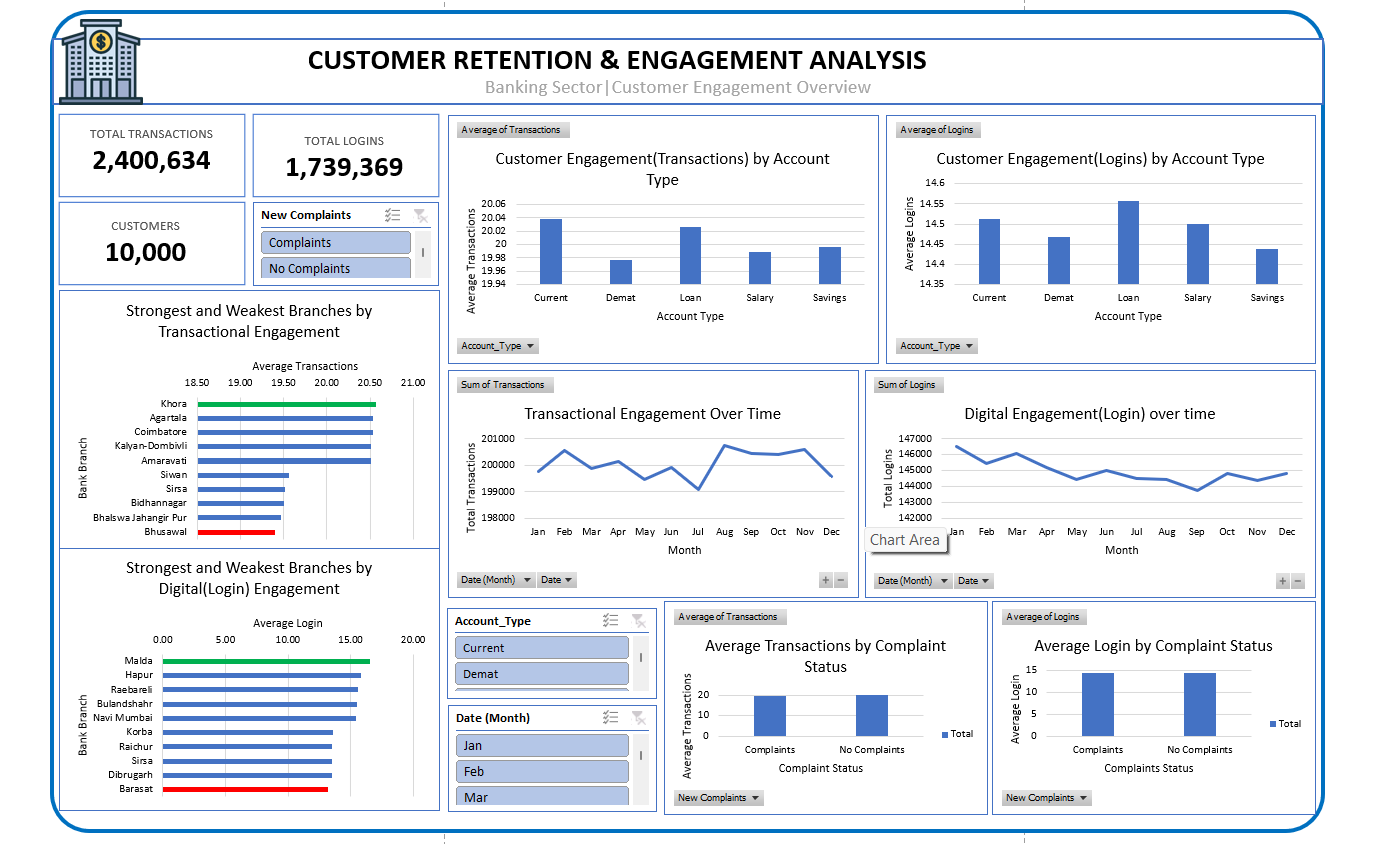

The dashboard page shown, as its layout file describes it:
{"tool":"powerbi","page":{"name":"Page 1","canvas":[1920,1080],"ordinal":0},"visuals":[{"type":"shape","box":[0,0,1920,144],"z":0},{"type":"shape","box":[1657.9,168,240,144],"z":1000},{"type":"textbox","box":[314.4,24,1176,96],"z":2000,"group":"g3"},{"type":"textbox","box":[1705.9,192,192,144],"z":2000},{"type":"textbox","box":[530.4,96,600,48],"z":3000,"group":"g3"},{"type":"group","id":"g1","title":"Group 1","box":[1320,168,312,144],"z":3000},{"type":"group","id":"g2","title":"Group 2","box":[1008,168,288,144],"z":4000},{"type":"shape","box":[1320,168,312,144],"z":5000,"group":"g1"},{"type":"image","box":[1632,216,120,72],"z":5000},{"type":"shape","box":[1008,168,288,144],"z":6000,"group":"g2"},{"type":"image","box":[1320,216,96,72],"z":6000},{"type":"image","box":[1032,216,72,96],"z":7000},{"type":"image","box":[48,0,192,144],"z":8000},{"type":"image","box":[1560,24,168,96],"z":9000},{"type":"textbox","box":[1368,192,264,120],"z":9000,"group":"g1"},{"type":"group","id":"g3","title":"Group 3","box":[314.4,24,1176,120],"z":10000},{"type":"textbox","box":[1056,192,240,96],"z":10000,"group":"g2"},{"type":"textbox","box":[1704,48,216,72],"z":11000},{"type":"lineChart","title":"Transactional Engagement Over Time","fields":{"Category":["Table1_1.Date.Variation.Date Hierarchy.Year","Table1_1.Date.Variation.Date Hierarchy.Quarter","Table1_1.Date.Variation.Date Hierarchy.Month","Table1_1.Date.Variation.Date Hierarchy.Day"],"Y":["Sum(Table1_1.Transactions)"]},"box":[24,648,672,408],"z":12000},{"type":"lineChart","title":"Login Engagement Over Time","fields":{"Category":["Table1_1.Date.Variation.Date Hierarchy.Year","Table1_1.Date.Variation.Date Hierarchy.Quarter","Table1_1.Date.Variation.Date Hierarchy.Month","Table1_1.Date.Variation.Date Hierarchy.Day"],"Y":["Sum(Table1_1.Logins)"]},"box":[720,648,672,408],"z":13000},{"type":"clusteredColumnChart","title":"Engagement by Complaint Status","fields":{"Category":["Table1_1.New Complaints"],"Y":["Avg(Table1_1.Logins)","Avg(Table1_1.Transactions)"]},"box":[1416,648,480,408],"z":14000},{"type":"clusteredColumnChart","title":"Customer Engagement by Account_Type","fields":{"Category":["Table1_1.Account_Type"],"Y":["Avg(Table1_1.Logins)","Avg(Table1_1.Transactions)"]},"box":[1176,336,720,288],"z":15000},{"type":"scatterChart","title":"Total Spend vs Transaction Activity","fields":{"X":["Sum(Table1_1.Total_Spend)"],"Y":["Sum(Table1_1.Transactions)"],"Series":["Table1_1.Customer_ID"]},"box":[463.6,335.1,687.9,289.8],"z":16000},{"type":"clusteredBarChart","title":"Branch Engagement (Top3 Logins)","fields":{"Category":["Table1_1.Home_Branch"],"Y":["Avg(Table1_1.Logins)"]},"box":[25.2,168.8,420.8,219.2],"z":17000},{"type":"clusteredBarChart","title":"Branch Engagement (Bottom3 Logins)","fields":{"Category":["Table1_1.Home_Branch"],"Y":["Avg(Table1_1.Logins)"]},"box":[25.2,403.1,420.8,219.2],"z":18000},{"type":"shape","box":[463.6,168.8,521.6,143.6],"z":19000},{"type":"image","box":[446,171.3,118.4,27.7],"z":20000}]}

Visuals, with their boxes on the page's 1920x1080 design canvas (x1, y1, x2, y2). These are canvas units, not pixel positions in the 1377x844 screenshot, which may show the page scaled, cropped or inside an application window:
shape: rect(0, 0, 1920, 144)
shape: rect(1658, 168, 1898, 312)
textbox: rect(314, 24, 1490, 120)
textbox: rect(1706, 192, 1898, 336)
textbox: rect(530, 96, 1130, 144)
"Group 1" group: rect(1320, 168, 1632, 312)
"Group 2" group: rect(1008, 168, 1296, 312)
shape: rect(1320, 168, 1632, 312)
image: rect(1632, 216, 1752, 288)
shape: rect(1008, 168, 1296, 312)
image: rect(1320, 216, 1416, 288)
image: rect(1032, 216, 1104, 312)
image: rect(48, 0, 240, 144)
image: rect(1560, 24, 1728, 120)
textbox: rect(1368, 192, 1632, 312)
"Group 3" group: rect(314, 24, 1490, 144)
textbox: rect(1056, 192, 1296, 288)
textbox: rect(1704, 48, 1920, 120)
"Transactional Engagement Over Time" lineChart: rect(24, 648, 696, 1056)
"Login Engagement Over Time" lineChart: rect(720, 648, 1392, 1056)
"Engagement by Complaint Status" clusteredColumnChart: rect(1416, 648, 1896, 1056)
"Customer Engagement by Account_Type" clusteredColumnChart: rect(1176, 336, 1896, 624)
"Total Spend vs Transaction Activity" scatterChart: rect(464, 335, 1152, 625)
"Branch Engagement (Top3 Logins)" clusteredBarChart: rect(25, 169, 446, 388)
"Branch Engagement (Bottom3 Logins)" clusteredBarChart: rect(25, 403, 446, 622)
shape: rect(464, 169, 985, 312)
image: rect(446, 171, 564, 199)
